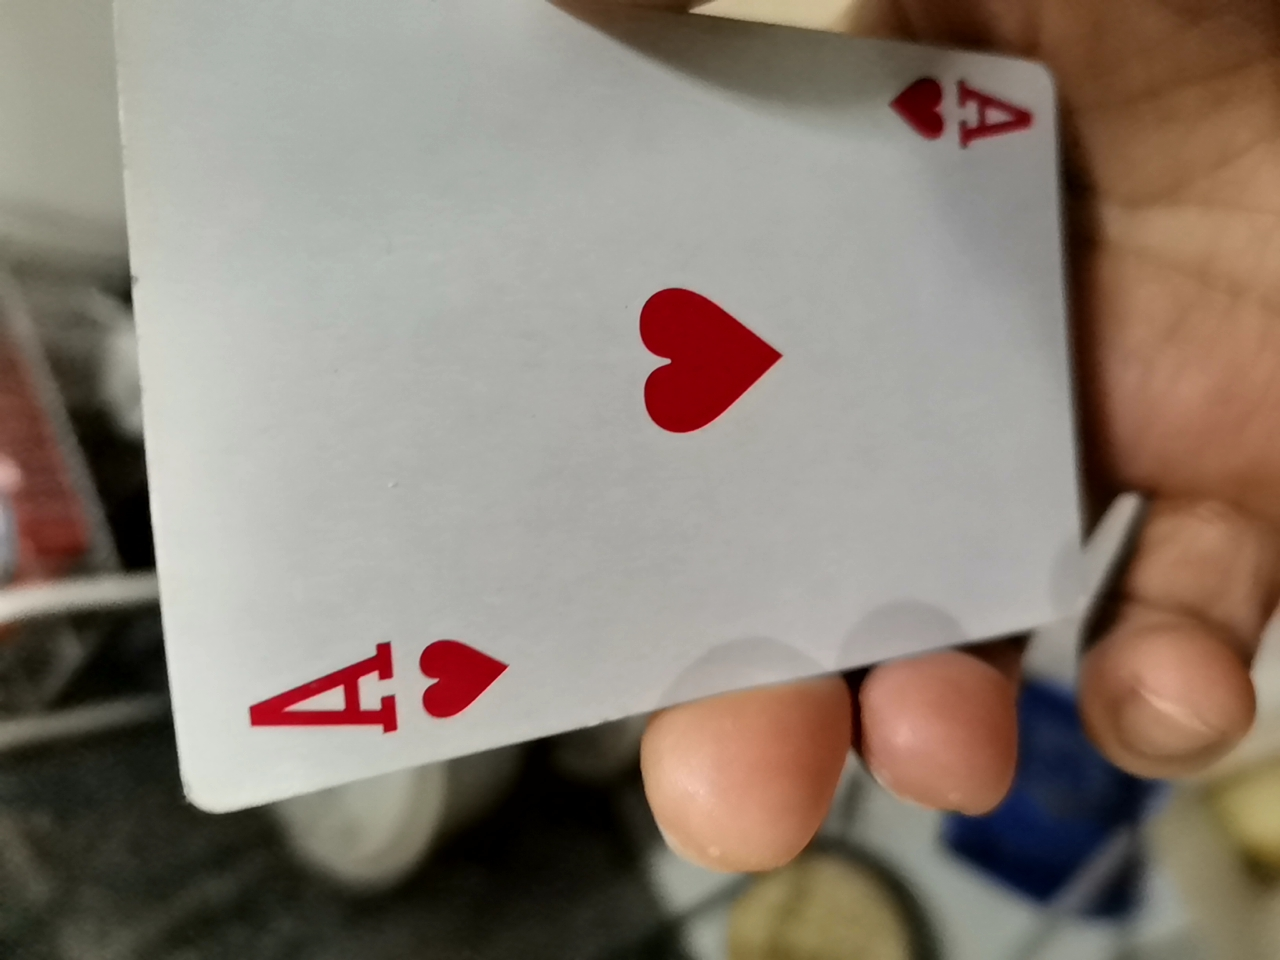hx a: (106, 22, 1115, 822)
